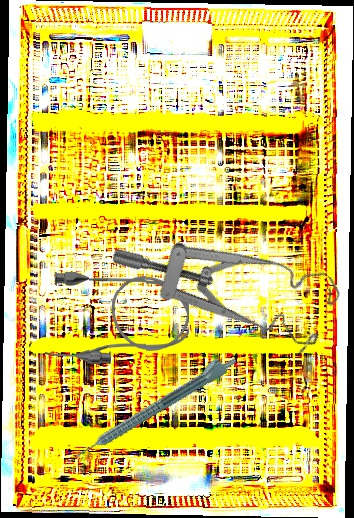Cannula: (45, 271, 190, 366)
Handpiece: (68, 348, 240, 462)
Speculum: (108, 162, 354, 392)
